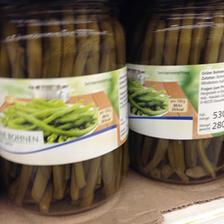Bohnen: (0, 2, 124, 214), (128, 2, 220, 190)
